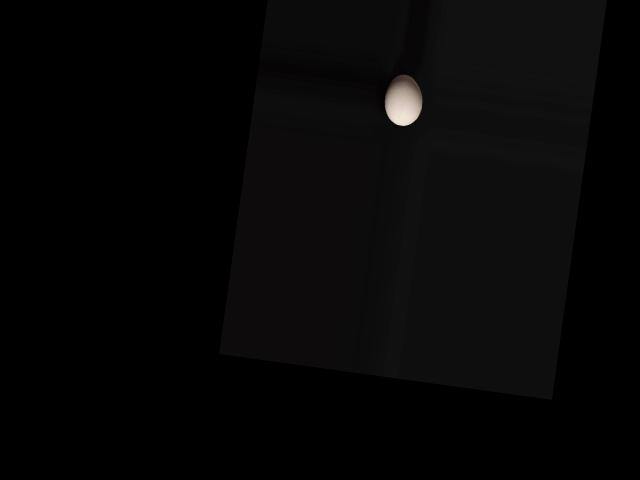egg: (381, 72, 425, 128)
